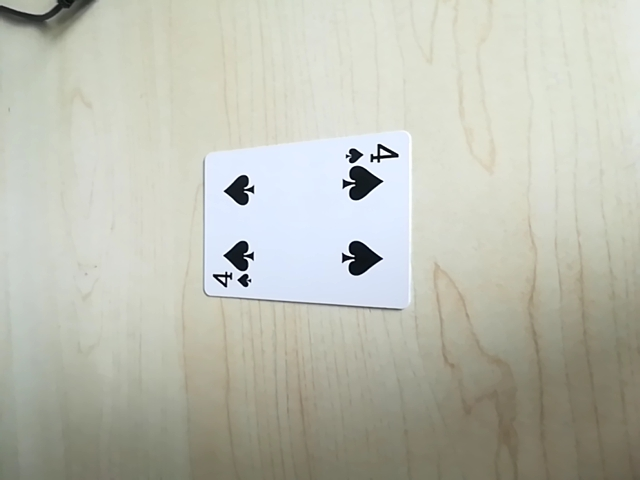ht 4: (343, 138, 399, 165), (205, 266, 257, 295)
